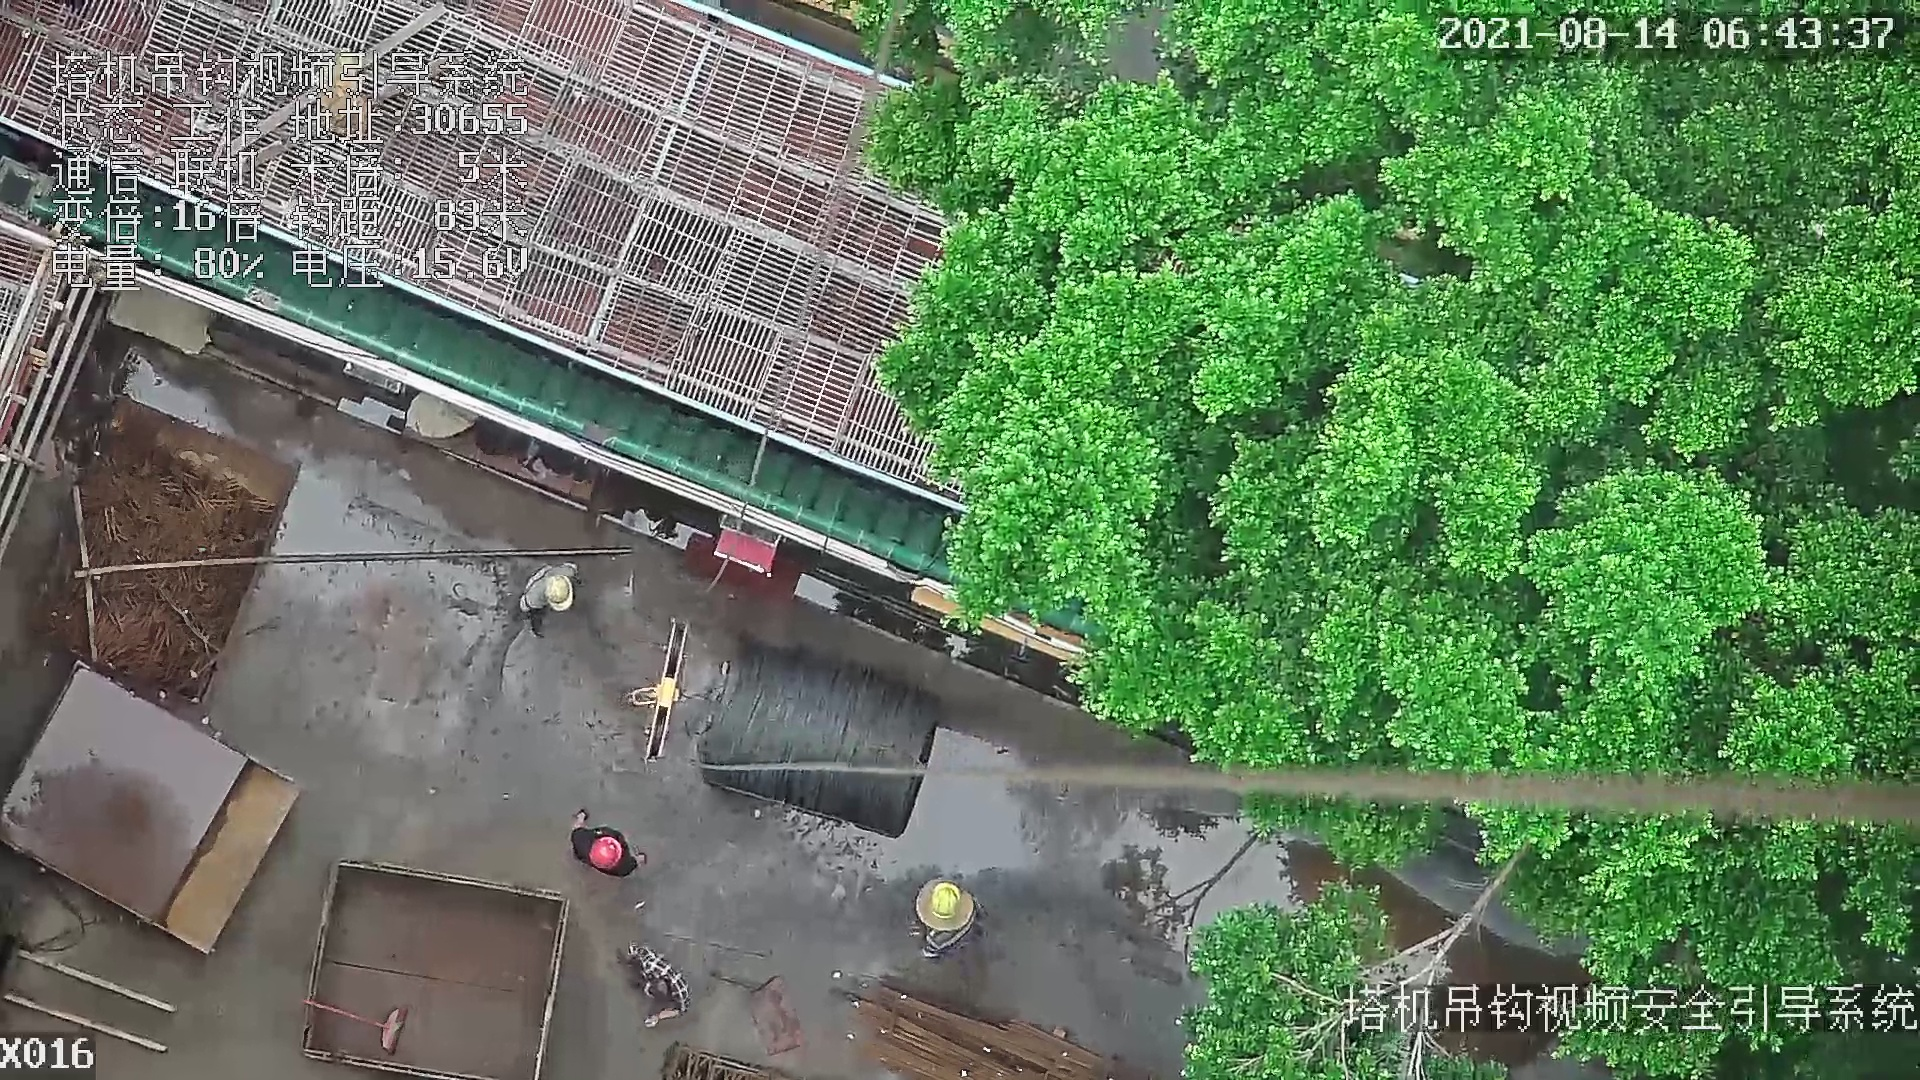helmet: (587, 832, 622, 875), (541, 573, 575, 610), (934, 882, 962, 922)
hook: (631, 610, 694, 760)
person: (914, 873, 1001, 965), (613, 942, 695, 1028), (564, 800, 654, 876), (515, 557, 582, 637)
